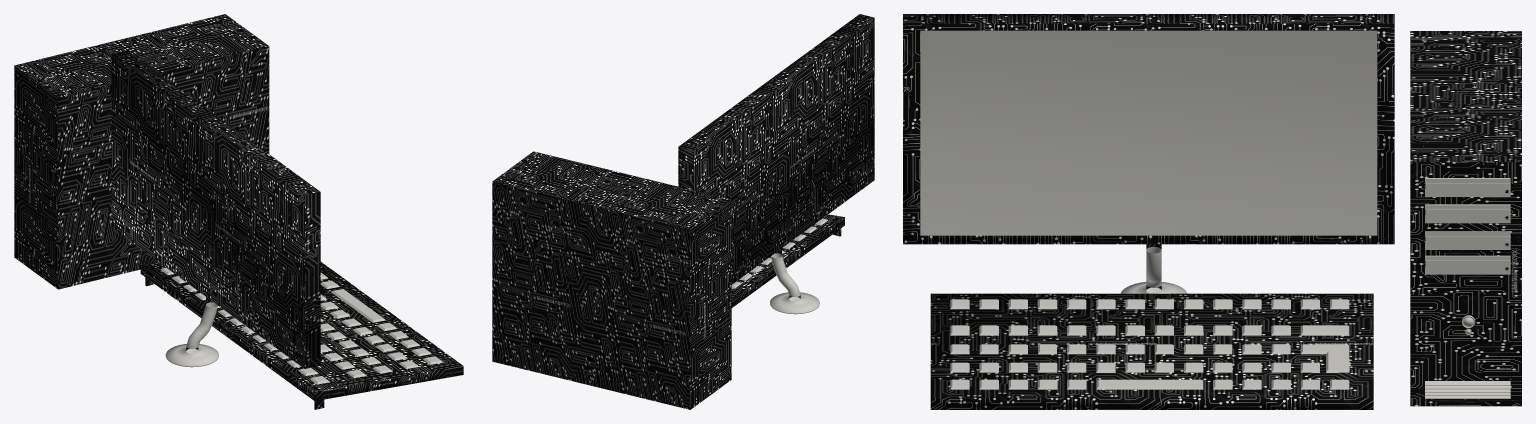
Rendered from computadora.fbx.
The picture shows the model from 3 angles, left to right: view 1: azimuth 30°, elevation 25°; view 2: azimuth 150°, elevation 25°; view 3: azimuth 270°, elevation 25°; orthographic projection. The views are drawn at different scales.
Visible parts, largest first — view 1: Cylinder.001; view 2: Cylinder.001; view 3: Cylinder.001.
Boxes of the visible parts, x1,y1,x2,y2 form: Cylinder.001: (14,14,463,409); Cylinder.001: (492,14,874,409); Cylinder.001: (903,14,1521,409).
Size of the model in its own units: 79.86 by 80.7 by 155.
20 materials, 20 textured.
